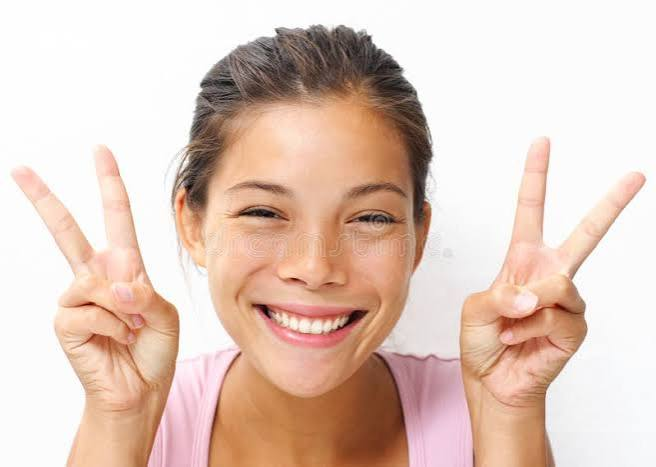peace_sign: (458, 134, 649, 396), (9, 130, 182, 408)
